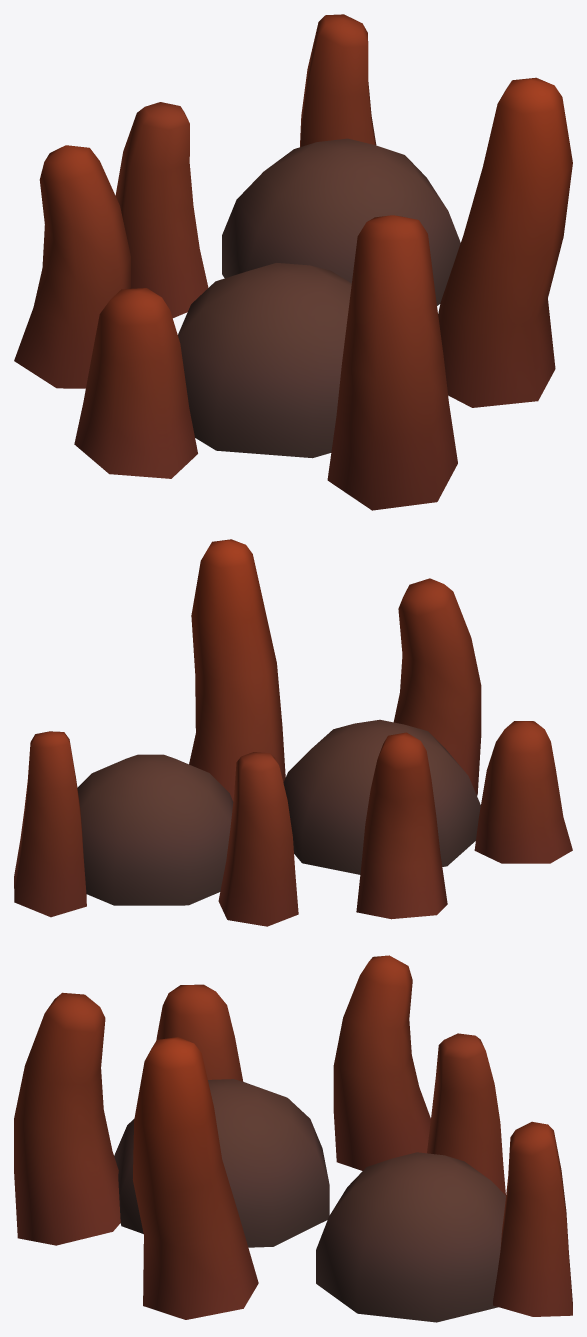
The model's file is inferno-grass-003.glb.
3 views of the same model, one above another, from view 1: azimuth 30°, elevation 25°; view 2: azimuth 150°, elevation 25°; view 3: azimuth 270°, elevation 25° (orthographic). The views are drawn at different scales.
Visible parts, largest first — view 1: Grass_003; view 2: Grass_003; view 3: Grass_003.
Part boxes in pixels (box(x1,y1,x2,y2)): Grass_003: box(14, 14, 572, 510); Grass_003: box(14, 539, 572, 926); Grass_003: box(14, 955, 572, 1322).
Bounding box in the file's own units: 1.4 × 0.8602 × 1.56.
Materials: 1 (1 with a texture image).
